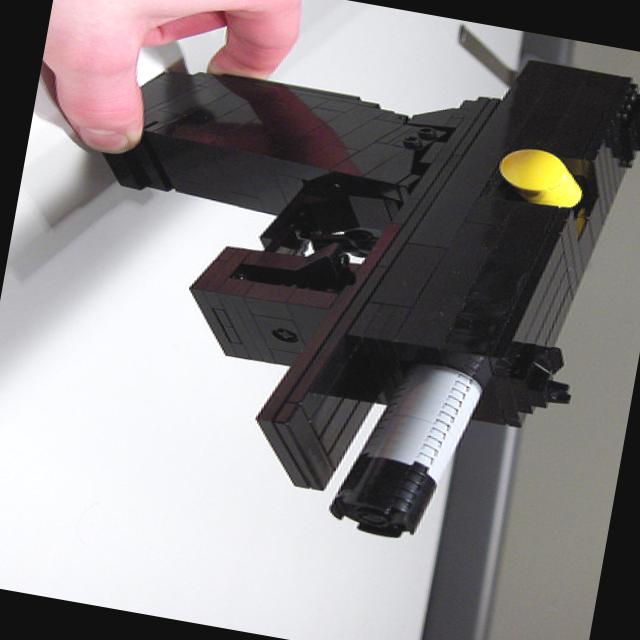handgun: (44, 0, 639, 576)
